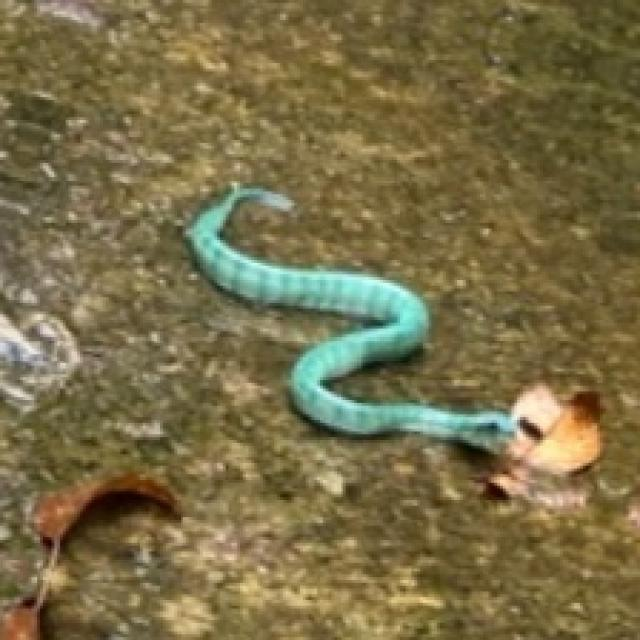north ph temple pitviper: (189, 189, 514, 451)
